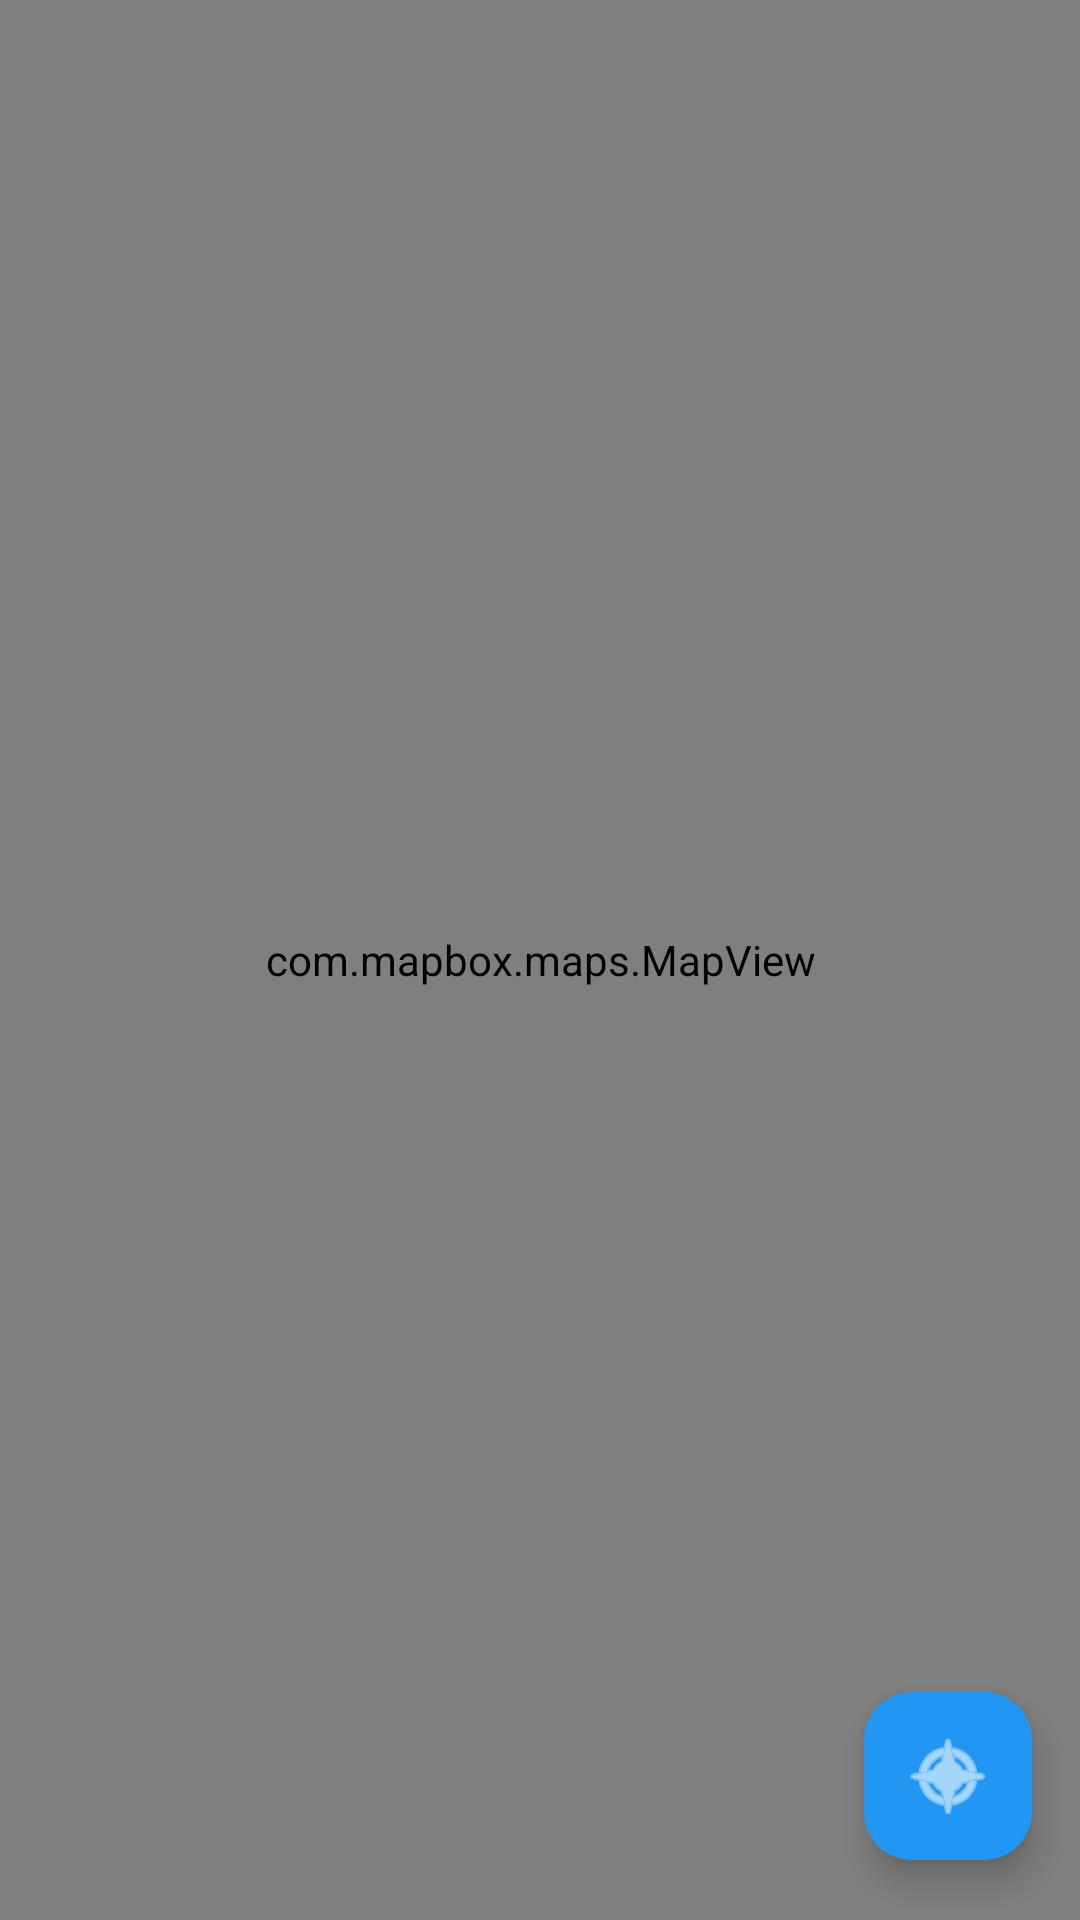

Named icons in this screenshot (1080x1920) and their centers, (x=x, y=y):
compass: (x=948, y=1776)
